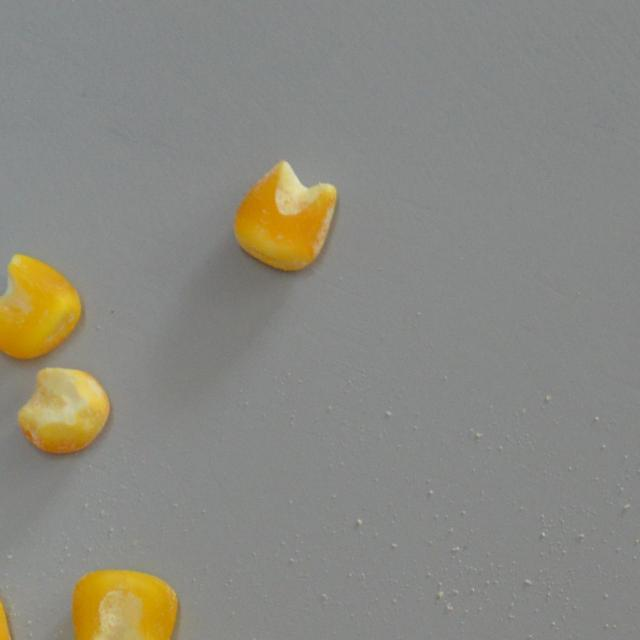no_canjicado: (0, 254, 83, 361), (70, 567, 178, 640)
no_desgerminado: (17, 365, 110, 456)
pelicula: (230, 158, 340, 274)
